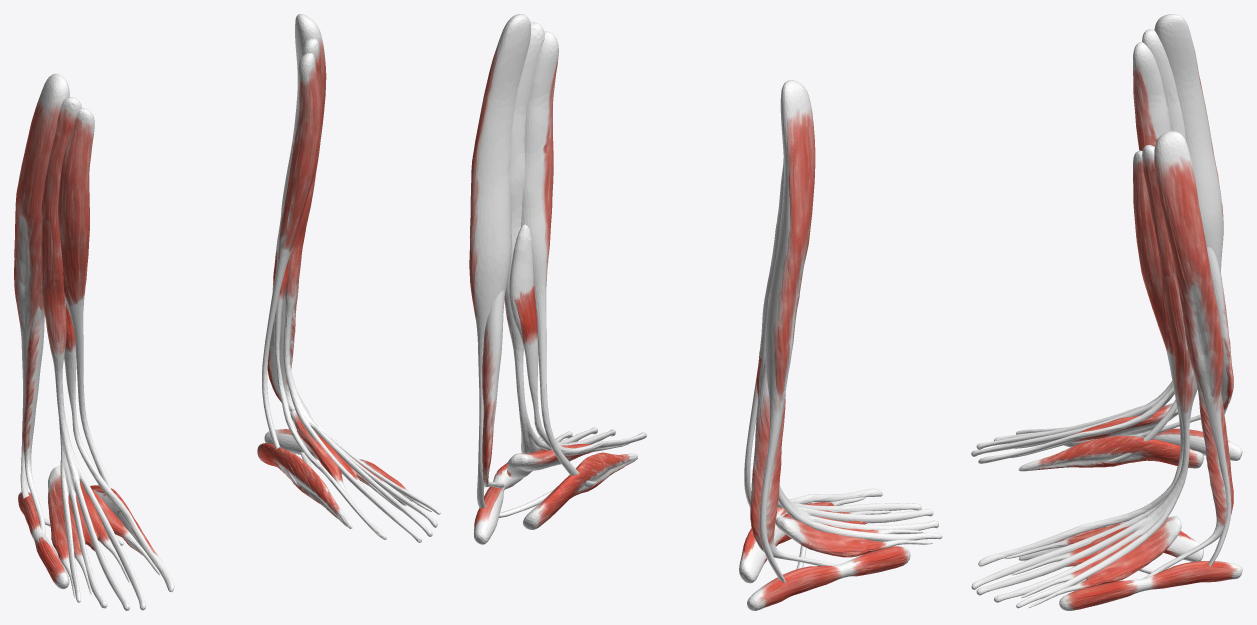
File: SubTool-15-15670855.OBJ
3 renders of one model, left to right at view 1: azimuth 30°, elevation 25°; view 2: azimuth 150°, elevation 25°; view 3: azimuth 270°, elevation 25°, orthographic. The views are drawn at different scales.
Parts seen in each view (by area): view 1: Group15331; view 2: Group15331; view 3: Group15331.
Part boxes in pixels (x1,y1,x2,y2): Group15331: [14, 14, 440, 610]; Group15331: [469, 14, 942, 610]; Group15331: [971, 14, 1242, 610].
Size of the model in its own units: 15.41 by 18.76 by 10.13.
Materials: 1 (1 with a texture image).
